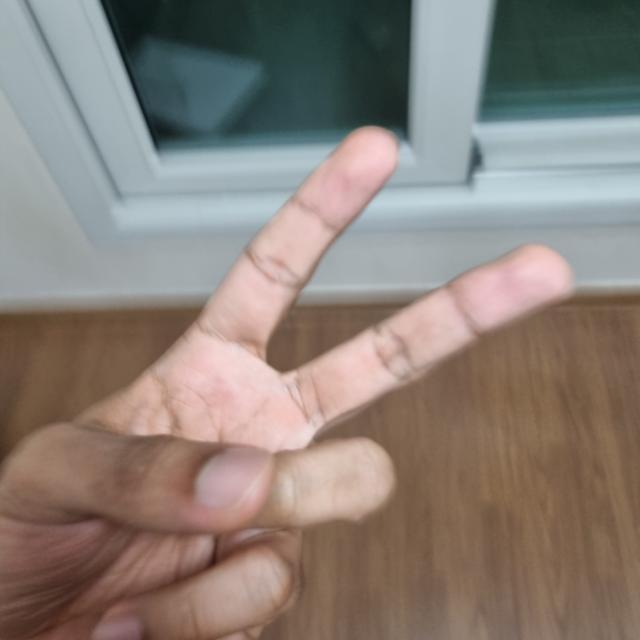Scissors: (0, 132, 564, 640)
